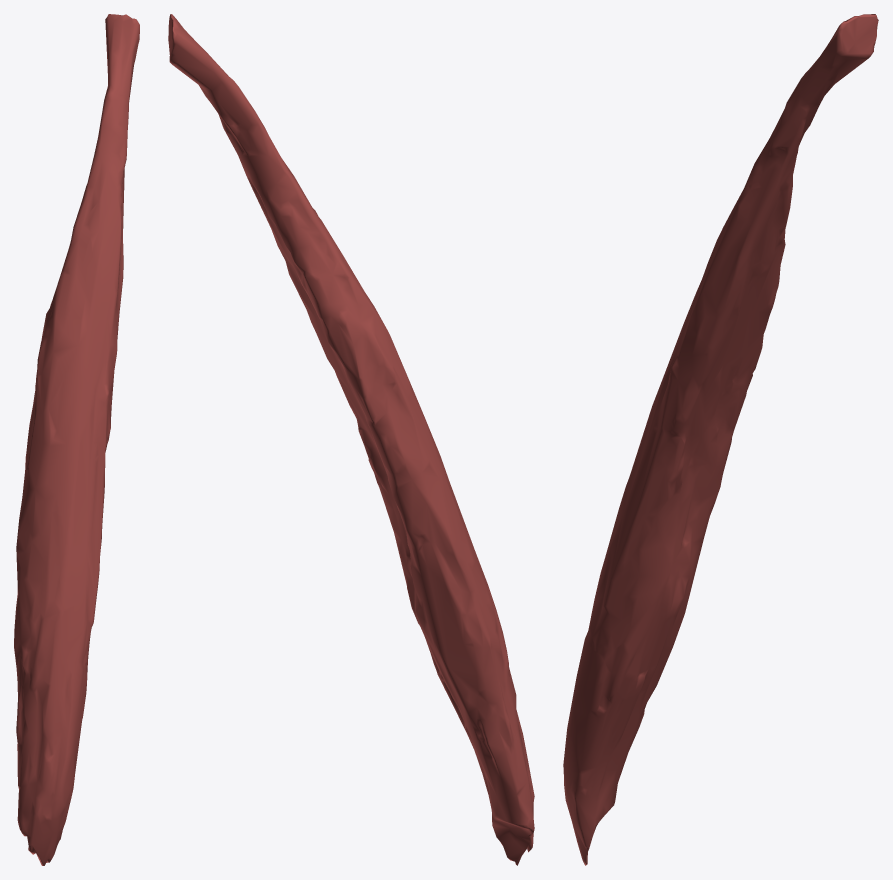
The model's file is FMA37399.glb.
The picture shows the model from 3 angles, left to right: view 1: azimuth 30°, elevation 25°; view 2: azimuth 150°, elevation 25°; view 3: azimuth 270°, elevation 25°; orthographic projection. The views are drawn at different scales.
Parts seen in each view (by area): view 1: FMA37399; view 2: FMA37399; view 3: FMA37399.
Part boxes in pixels (x1,y1,x2,y2): FMA37399: [14, 14, 139, 865]; FMA37399: [168, 14, 534, 865]; FMA37399: [563, 14, 878, 865].
Bounding box in the file's own units: 0.0179 × 0.0596 × 0.0176.
